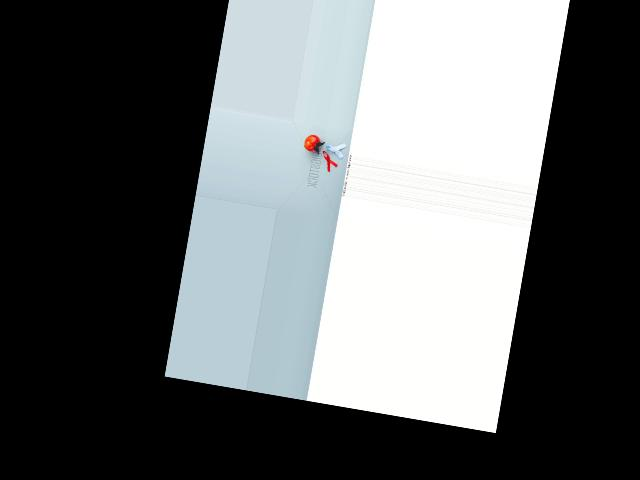tomato: (303, 133, 322, 153)
